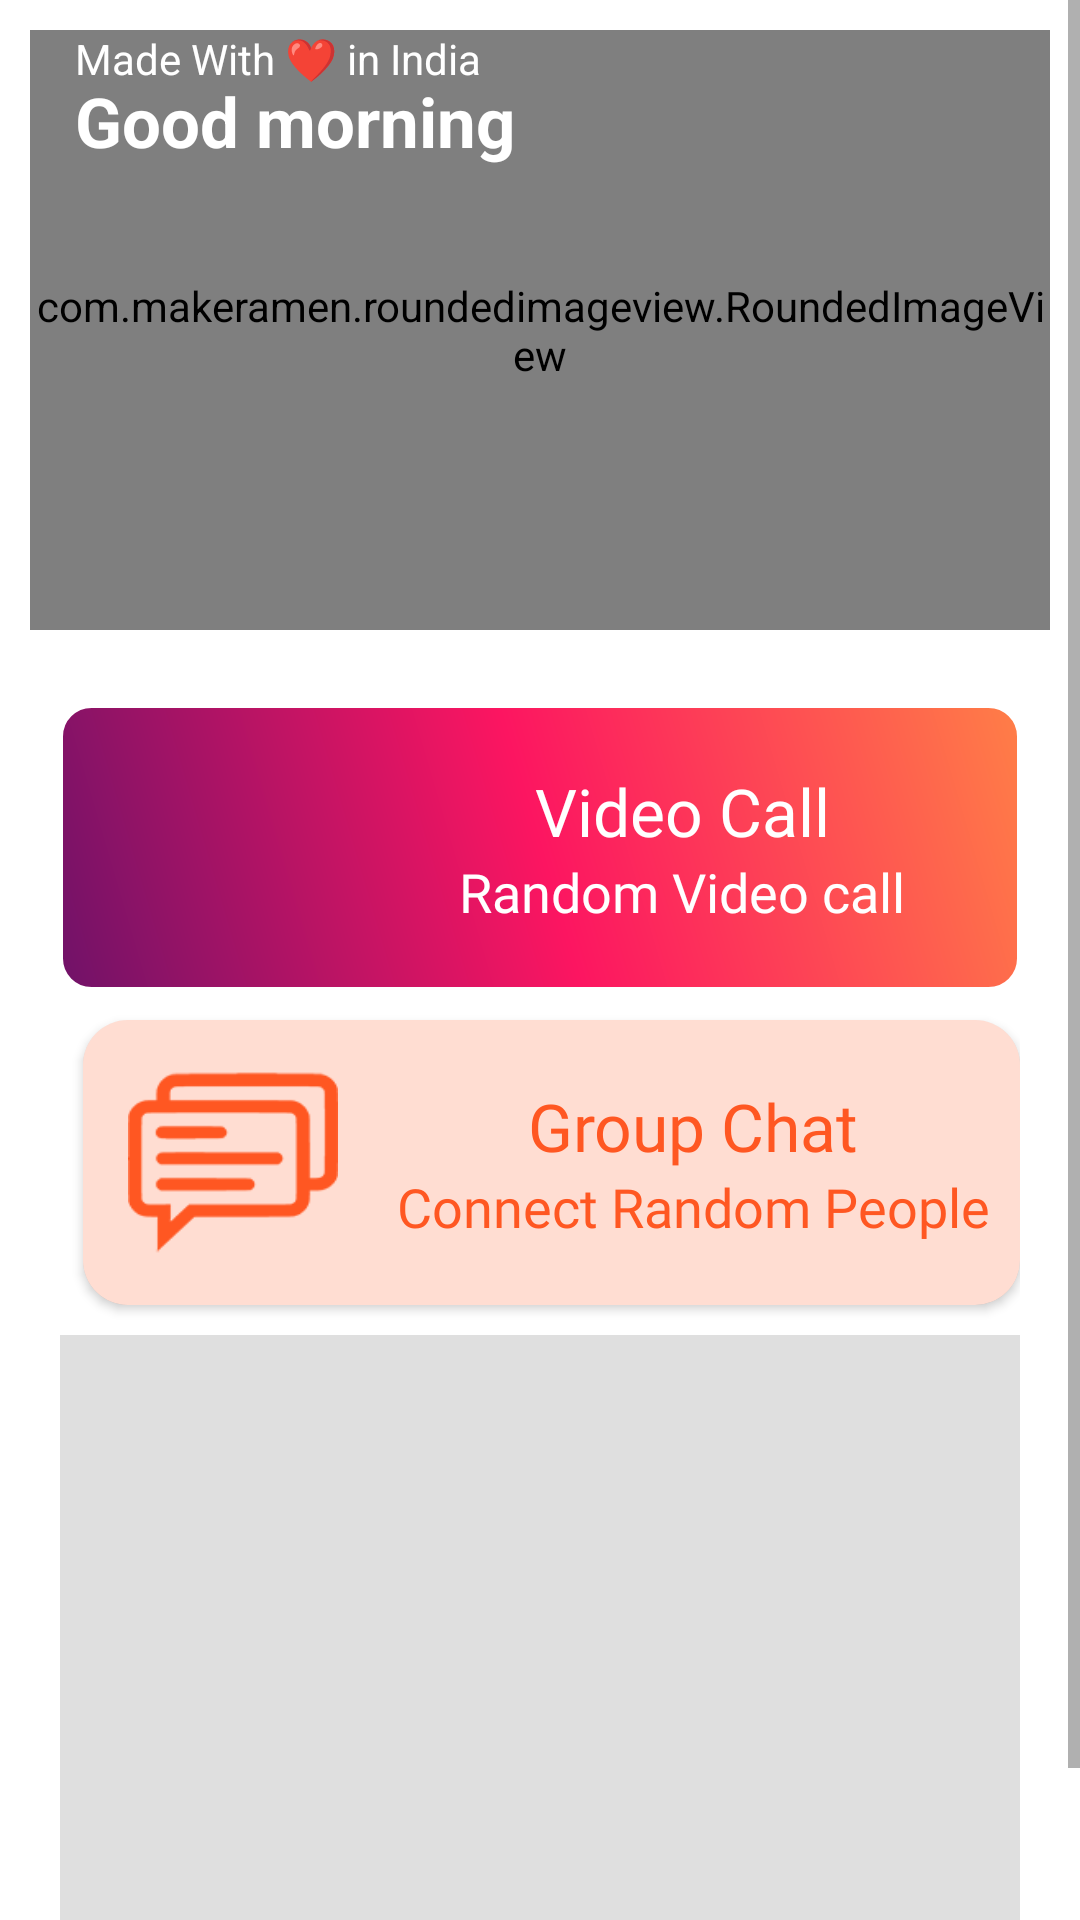

Point at icon controls on the screen. Image size 1080x1920, points as [x,y].
groupchat: [233,1162]
